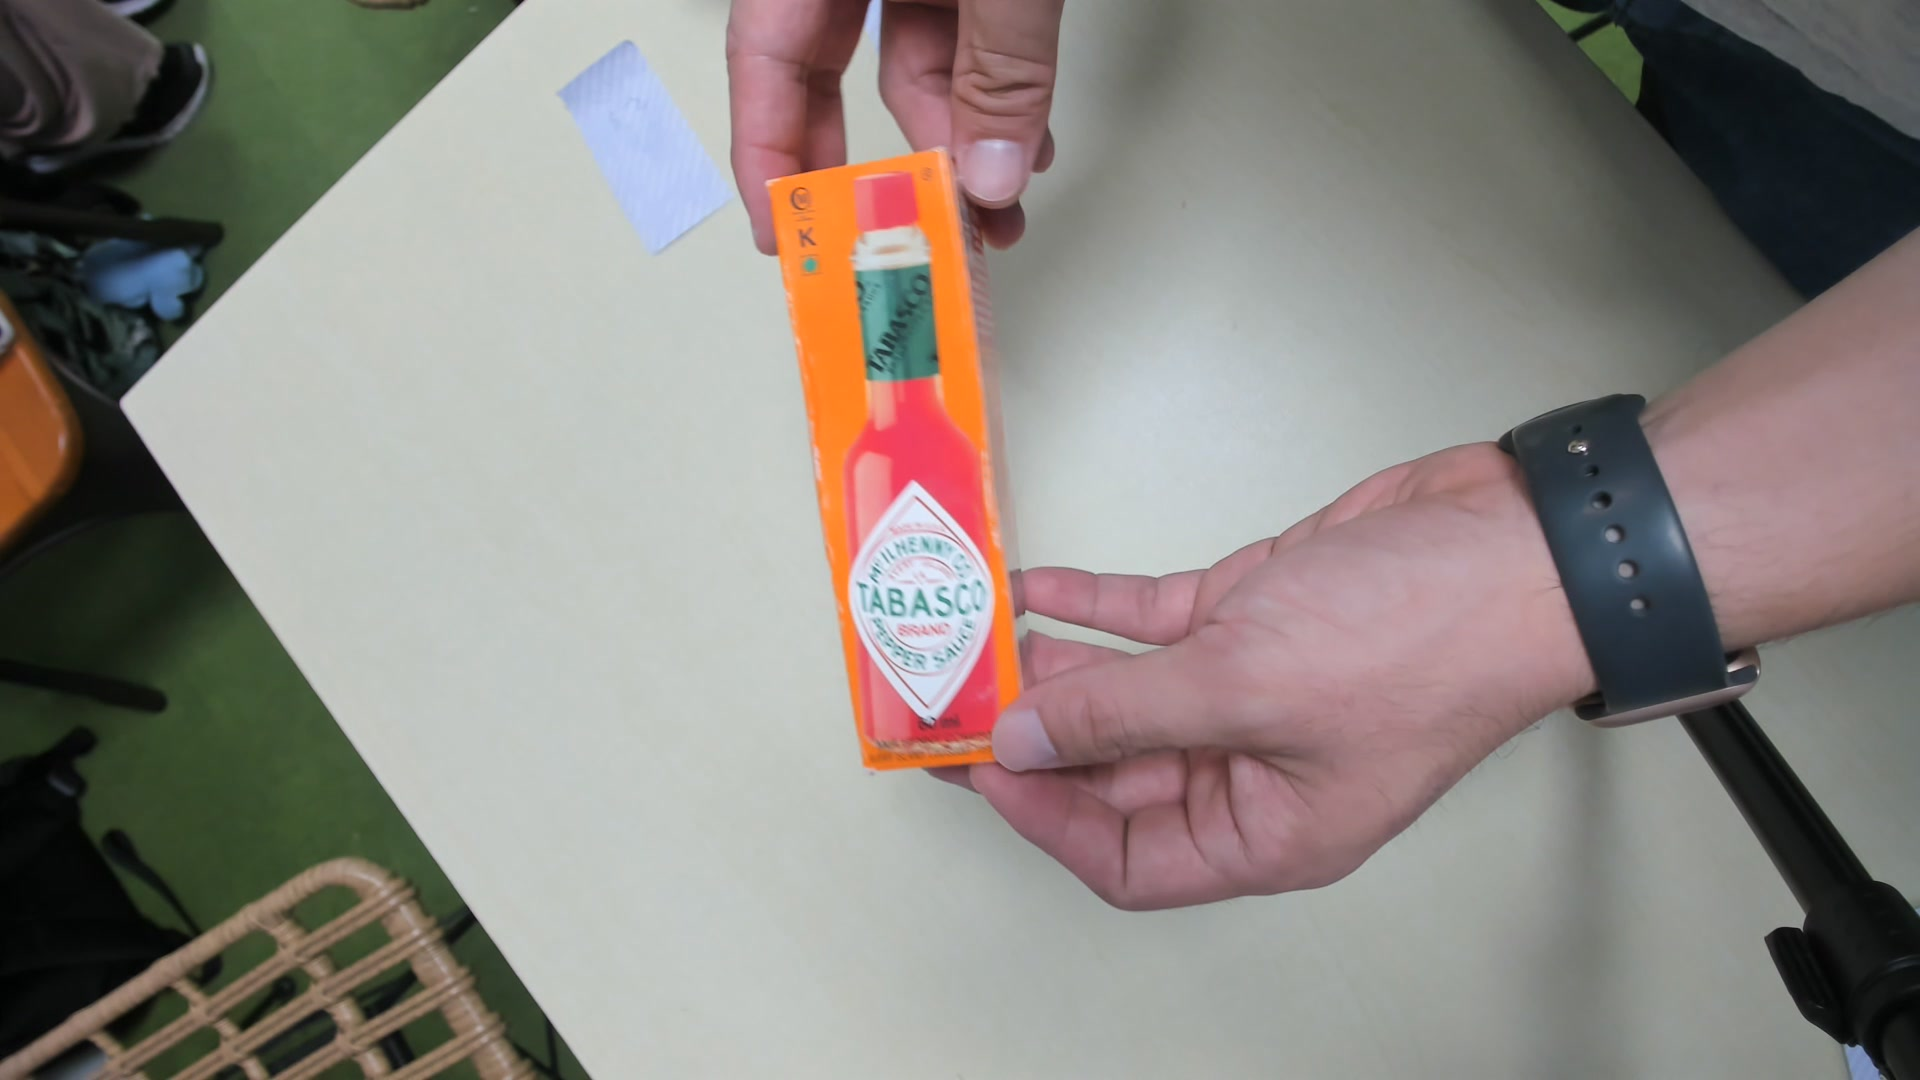KetchupChillSauce_0-99g_NonHalal_NonHealthy: (767, 150, 1033, 771)
